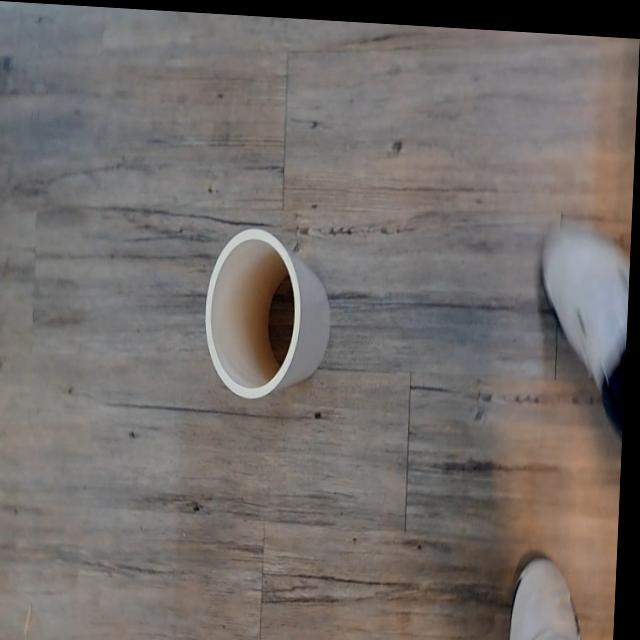CORAL: (174, 223, 369, 430)
